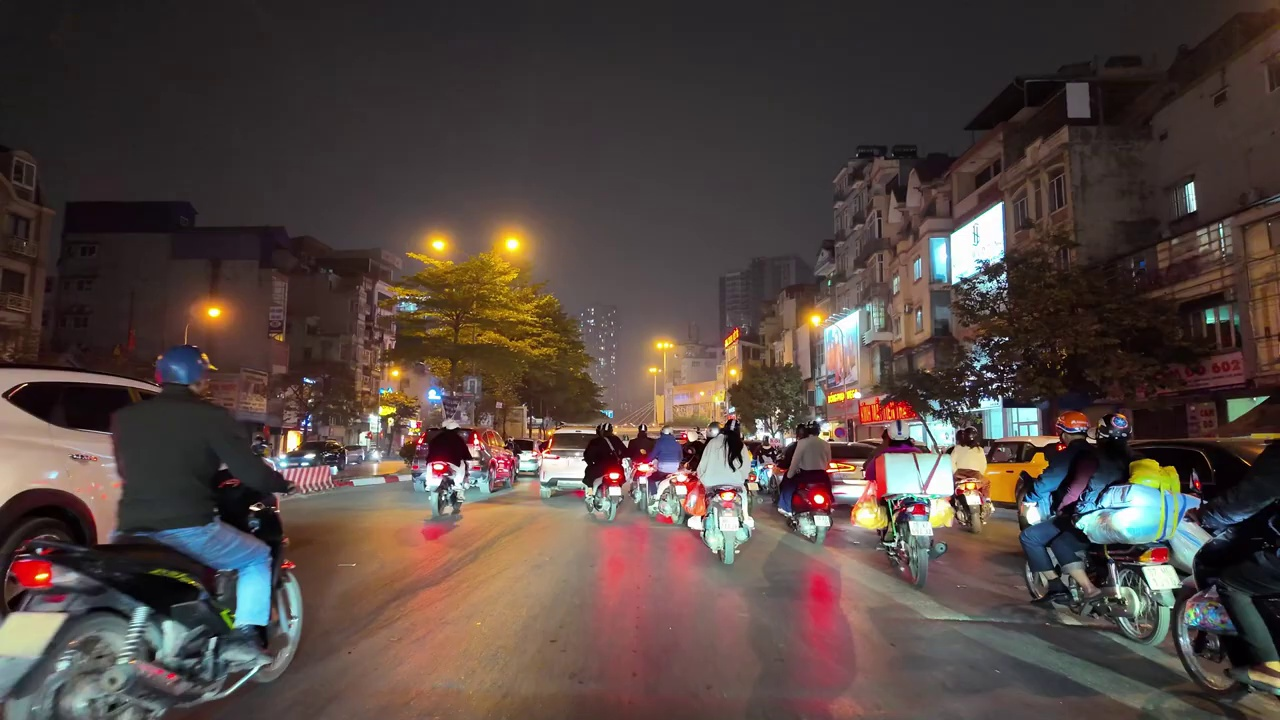acesa: (495, 229, 529, 261), (422, 231, 454, 263), (198, 299, 231, 328), (646, 336, 678, 365), (800, 307, 827, 331)
